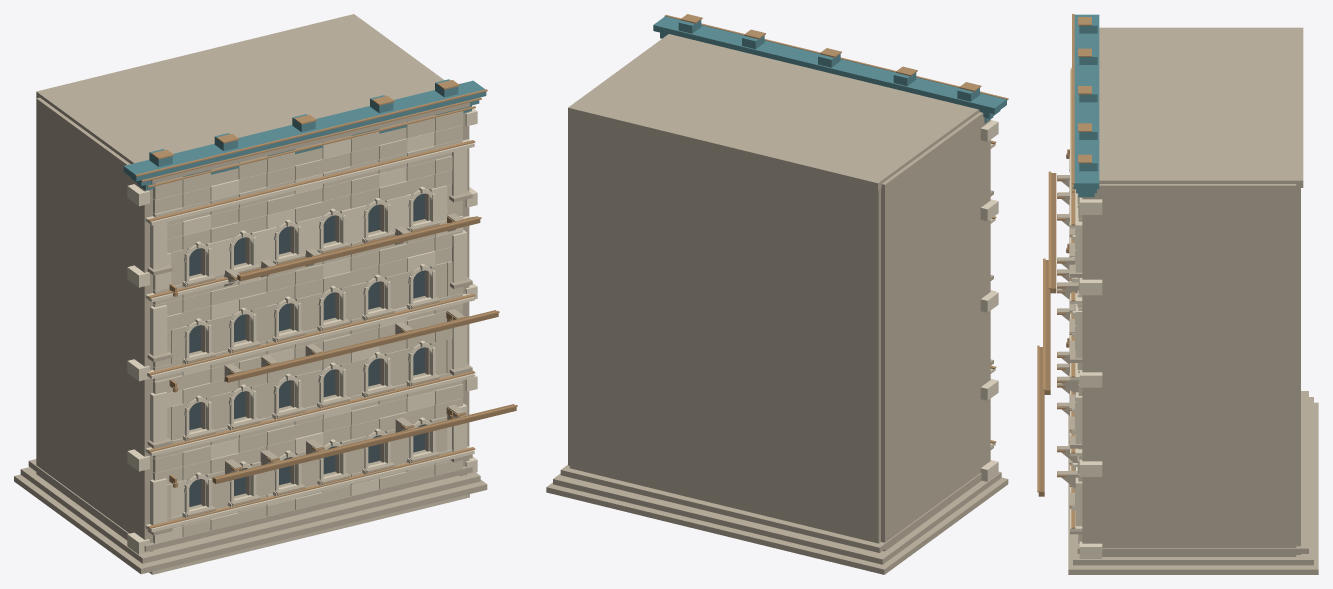
The model's file is world09-dock-cliff-v1.glb.
3 renders of one model, left to right at view 1: azimuth 30°, elevation 25°; view 2: azimuth 150°, elevation 25°; view 3: azimuth 270°, elevation 25°, orthographic. The views are drawn at different scales.
Visible parts, largest first — view 1: dock-cliff-warm-stone, dock-cliff-ivory-limestone, dock-cliff-pale-ashlar, dock-cliff-aged-copper, dock-cliff-teal-slate, dock-cliff-deep-recess, dock-cliff-honey-oak; view 2: dock-cliff-warm-stone, dock-cliff-teal-slate, dock-cliff-pale-ashlar, dock-cliff-aged-copper; view 3: dock-cliff-warm-stone, dock-cliff-pale-ashlar, dock-cliff-teal-slate, dock-cliff-aged-copper, dock-cliff-honey-oak, dock-cliff-ivory-limestone.
Part boxes in pixels (left/top/right/bottom): dock-cliff-warm-stone: left=14, top=14, right=487, bottom=574; dock-cliff-ivory-limestone: left=149, top=111, right=469, bottom=574; dock-cliff-pale-ashlar: left=127, top=108, right=477, bottom=554; dock-cliff-aged-copper: left=135, top=80, right=517, bottom=528; dock-cliff-teal-slate: left=123, top=79, right=486, bottom=190; dock-cliff-deep-recess: left=187, top=193, right=424, bottom=506; dock-cliff-honey-oak: left=212, top=216, right=516, bottom=483; dock-cliff-warm-stone: left=546, top=34, right=1008, bottom=574; dock-cliff-teal-slate: left=653, top=16, right=1006, bottom=123; dock-cliff-pale-ashlar: left=980, top=120, right=998, bottom=481; dock-cliff-aged-copper: left=664, top=14, right=1008, bottom=443; dock-cliff-warm-stone: left=1057, top=27, right=1318, bottom=574; dock-cliff-pale-ashlar: left=1070, top=69, right=1102, bottom=558; dock-cliff-teal-slate: left=1073, top=14, right=1099, bottom=197; dock-cliff-aged-copper: left=1037, top=14, right=1091, bottom=528; dock-cliff-honey-oak: left=1038, top=173, right=1056, bottom=496; dock-cliff-ivory-limestone: left=1077, top=193, right=1082, bottom=543.
Bounding box in the file's own units: 21.52 × 23.35 × 14.61.
